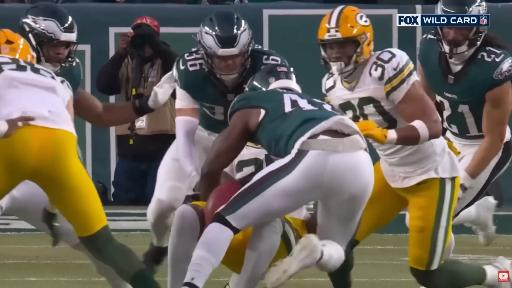Helmet: (198, 11, 253, 87), (20, 3, 77, 70), (318, 6, 373, 75), (435, 26, 487, 63), (246, 64, 301, 92), (0, 29, 35, 63)
Jersey: (419, 32, 511, 143), (322, 49, 418, 129), (229, 90, 338, 158), (0, 55, 76, 134), (174, 50, 237, 133), (226, 144, 274, 179), (56, 59, 82, 93)
Player: (318, 6, 510, 287), (183, 65, 373, 287), (0, 30, 158, 287), (145, 11, 287, 268), (418, 27, 511, 245), (20, 3, 168, 126), (253, 207, 315, 263)
